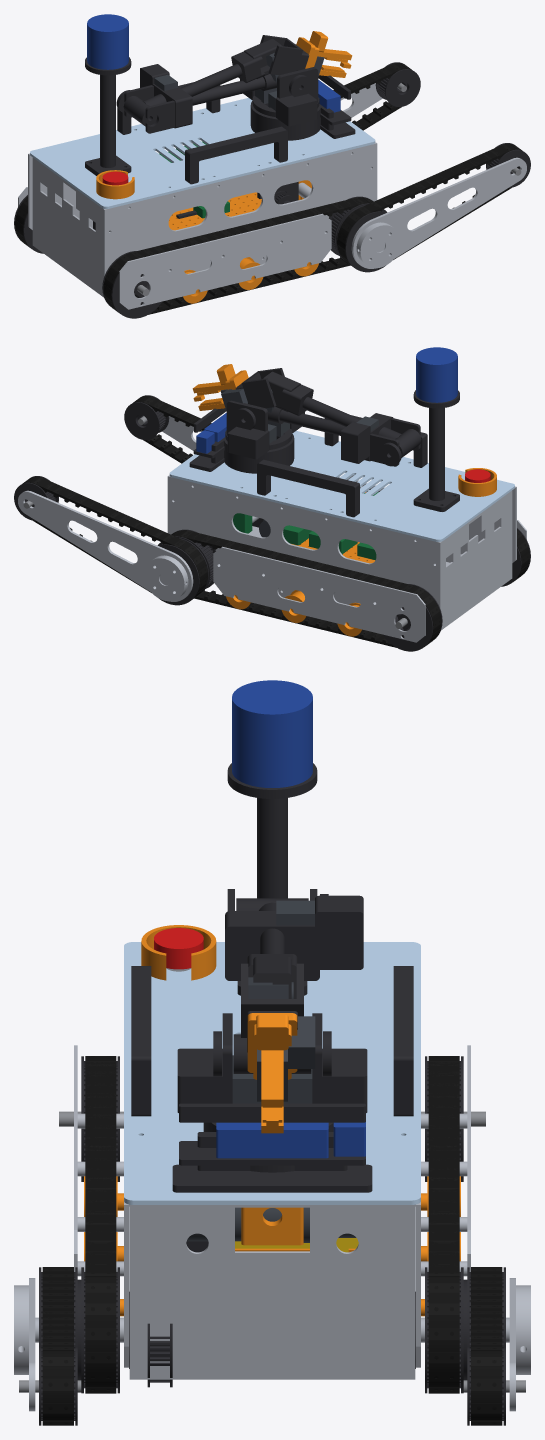
File: carpincho.glb
3 views of the same model, one above another, from view 1: azimuth 30°, elevation 25°; view 2: azimuth 150°, elevation 25°; view 3: azimuth 270°, elevation 25° (orthographic). The views are drawn at different scales.
Parts seen in each view (by area): view 1: CH-04, CH-01_R, CH-02_R, CH-06, FL-01_R, REF-B1_R, AR-04, MT-03, REF-LID, AR-02, REF-B3_R, CH-09_1 (+25 smaller); view 2: CH-04, CH-01_L, CH-02_L, CH-06, FL-01_L, REF-B1_L, MT-03, REF-LID, AR-02, AR-04, REF-B3_L, CH-09_0 (+26 smaller); view 3: CH-05, CH-04, MT-04, REF-B1_R, REF-B1_L, REF-LID, AR-04, AR-02, MT-03, AR-07, REF-DEP, REF-B3_L (+28 smaller).
Boxes of the visible parts, bbox=[...] form: CH-04: bbox=[30, 97, 375, 208]; CH-01_R: bbox=[103, 142, 377, 279]; CH-02_R: bbox=[119, 213, 331, 309]; CH-06: bbox=[32, 157, 103, 297]; FL-01_R: bbox=[351, 157, 526, 268]; REF-B1_R: bbox=[103, 197, 373, 314]; AR-04: bbox=[124, 64, 192, 133]; MT-03: bbox=[85, 57, 131, 175]; REF-LID: bbox=[87, 14, 128, 69]; AR-02: bbox=[240, 67, 319, 126]; REF-B3_R: bbox=[337, 143, 518, 265]; CH-09_1: bbox=[185, 126, 287, 184]; CH-04: bbox=[169, 430, 514, 541]; CH-01_L: bbox=[167, 475, 441, 612]; CH-02_L: bbox=[213, 546, 425, 642]; CH-06: bbox=[441, 490, 512, 630]; FL-01_L: bbox=[18, 490, 193, 601]; REF-B1_L: bbox=[171, 530, 441, 647]; MT-03: bbox=[413, 390, 459, 511]; REF-LID: bbox=[416, 347, 457, 402]; AR-02: bbox=[225, 400, 304, 459]; AR-04: bbox=[341, 413, 420, 466]; REF-B3_L: bbox=[26, 476, 207, 598]; CH-09_0: bbox=[257, 459, 359, 517]; CH-05: bbox=[129, 1204, 415, 1379]; CH-04: bbox=[124, 942, 420, 1204]; MT-04: bbox=[172, 1103, 372, 1192]; REF-B1_R: bbox=[85, 1056, 116, 1392]; REF-B1_L: bbox=[428, 1056, 459, 1392]; REF-LID: bbox=[232, 680, 312, 787]; AR-04: bbox=[225, 889, 363, 980]; AR-02: bbox=[177, 1013, 367, 1112]; MT-03: bbox=[227, 763, 317, 995]; AR-07: bbox=[247, 1013, 297, 1133]; REF-DEP: bbox=[216, 1122, 328, 1158]; REF-B3_L: bbox=[471, 1267, 502, 1425].
Size of the model in its own units: 733 by 437 by 414.
